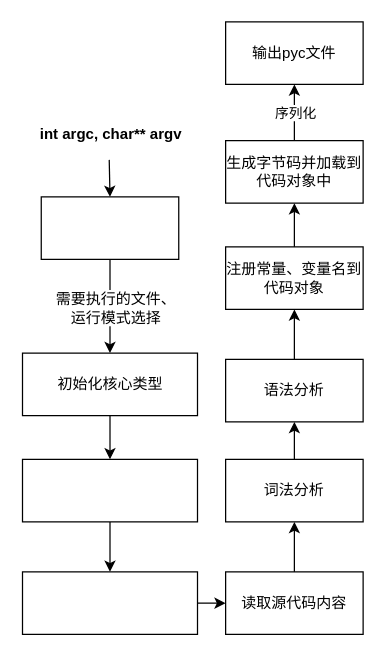
The diagram is 385 pixels wide and 656 high, and some of its shapes have lost their labels. The box of each missing label's shape, as (x1, y1, x2, y2) in pixels:
初始化其他内置类型: (21, 458, 198, 522)
初始化抽象语法树结点类型: (21, 571, 198, 634)
参数解析器: (40, 196, 179, 259)
